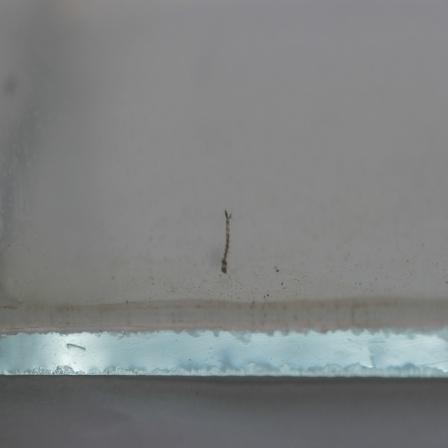Jentik-Nyamuk: (214, 206, 237, 278)
